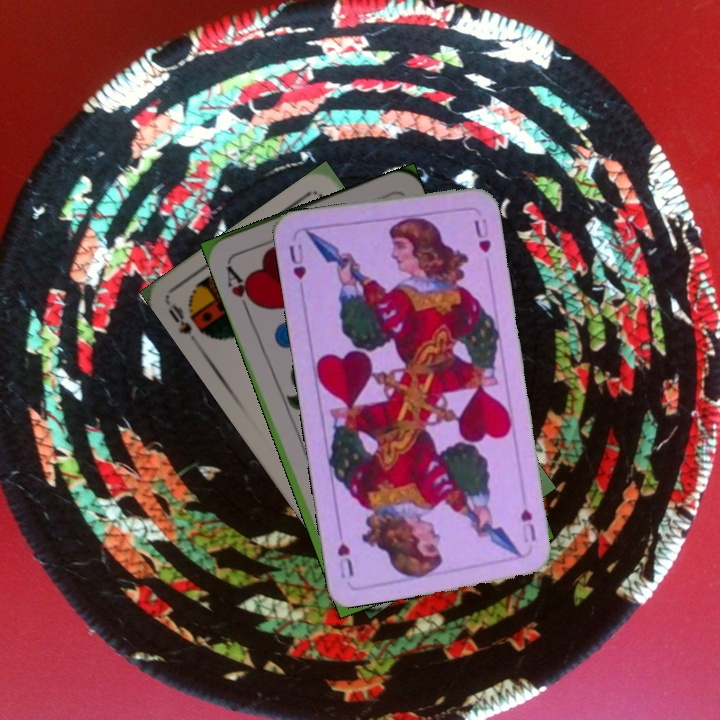HA: (222, 259, 260, 315)
HU: (285, 240, 309, 294), (516, 505, 539, 545)
SO: (164, 300, 214, 343)
